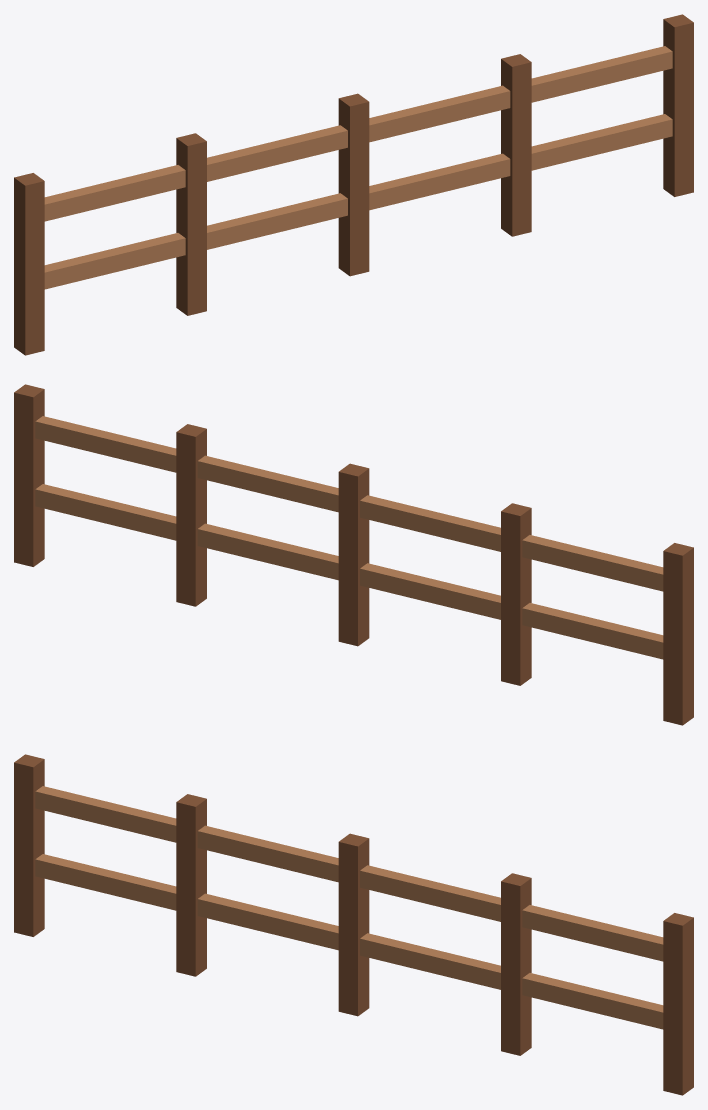
Rendered from prop_fence.fbx.
3 views of the same model, one above another, from view 1: azimuth 30°, elevation 25°; view 2: azimuth 150°, elevation 25°; view 3: azimuth 330°, elevation 25° (orthographic).
Parts seen in each view (by area): view 1: prop_fence; view 2: prop_fence; view 3: prop_fence.
Part boxes in pixels (bbox=[...]): prop_fence: bbox=[14, 14, 693, 355]; prop_fence: bbox=[14, 384, 693, 725]; prop_fence: bbox=[14, 754, 693, 1095].
Bounding box in the file's own units: 4.12 × 1 × 0.12.
1 material, 1 textured.
